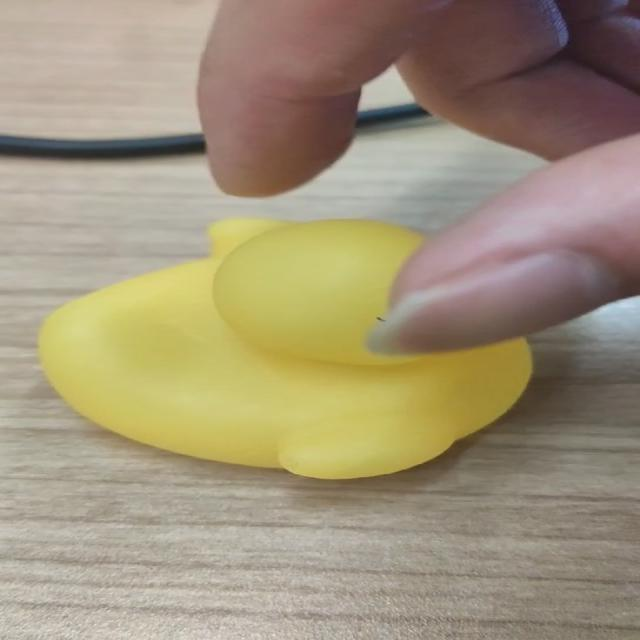rubber-duck: (38, 217, 530, 477)
